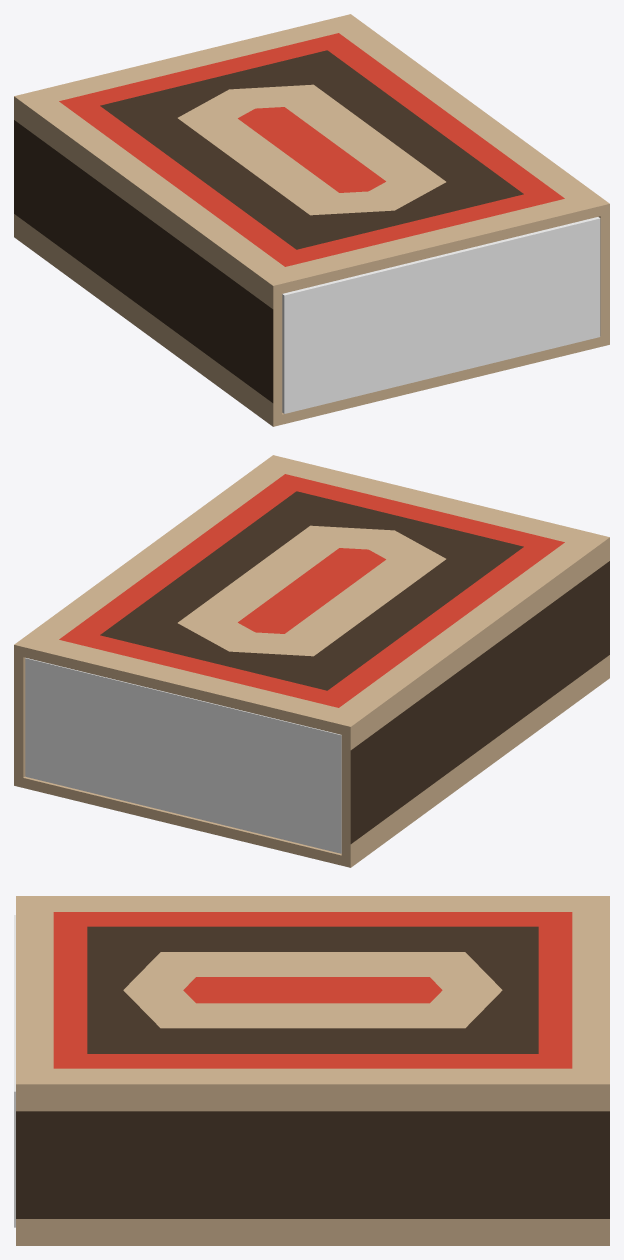
Rendered from survival_matches-box.fbx.
The picture shows the model from 3 angles, top to bottom: view 1: azimuth 30°, elevation 25°; view 2: azimuth 150°, elevation 25°; view 3: azimuth 270°, elevation 25°; orthographic projection. The views are drawn at different scales.
Parts seen in each view (by area): view 1: matches_box_cover, matches; view 2: matches_box_cover, matches; view 3: matches_box_cover, matches.
Part boxes in pixels (x1,y1,x2,y2): matches_box_cover: (14,14,609,426); matches: (282,217,600,413); matches_box_cover: (14,455,609,867); matches: (25,658,341,853); matches_box_cover: (16,896,609,1245); matches: (14,915,15,1227).
Bounding box in the file's own units: 150 × 59.82 × 200.
